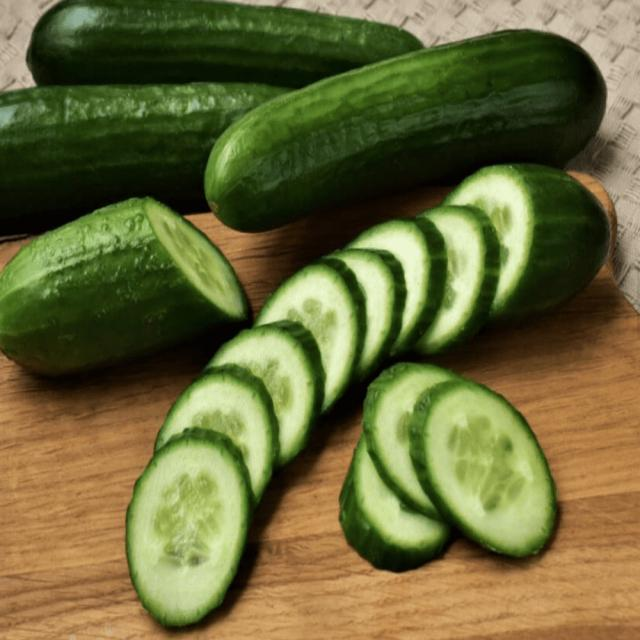Pickle: (204, 30, 606, 230), (0, 197, 249, 374), (0, 82, 286, 234), (26, 0, 422, 87), (445, 166, 610, 318), (416, 380, 556, 556), (126, 431, 252, 625), (155, 364, 279, 503), (209, 321, 324, 466), (255, 260, 365, 411), (340, 432, 450, 570), (362, 363, 459, 519), (348, 216, 448, 356), (415, 206, 500, 354), (328, 248, 406, 380)
